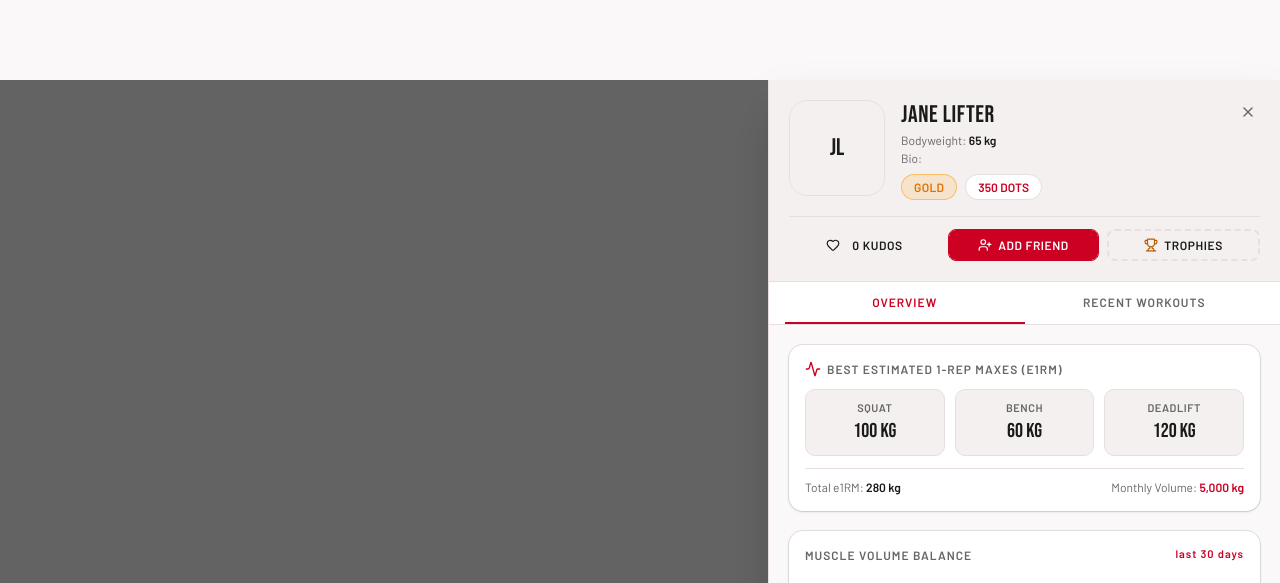
Scenario: ProfInspDrawer › sends req, shows sent
The width and height of the screenshot is (1280, 583).
Click the button "Add Friend".
click(1024, 245)  # box [948,229,1099,261]
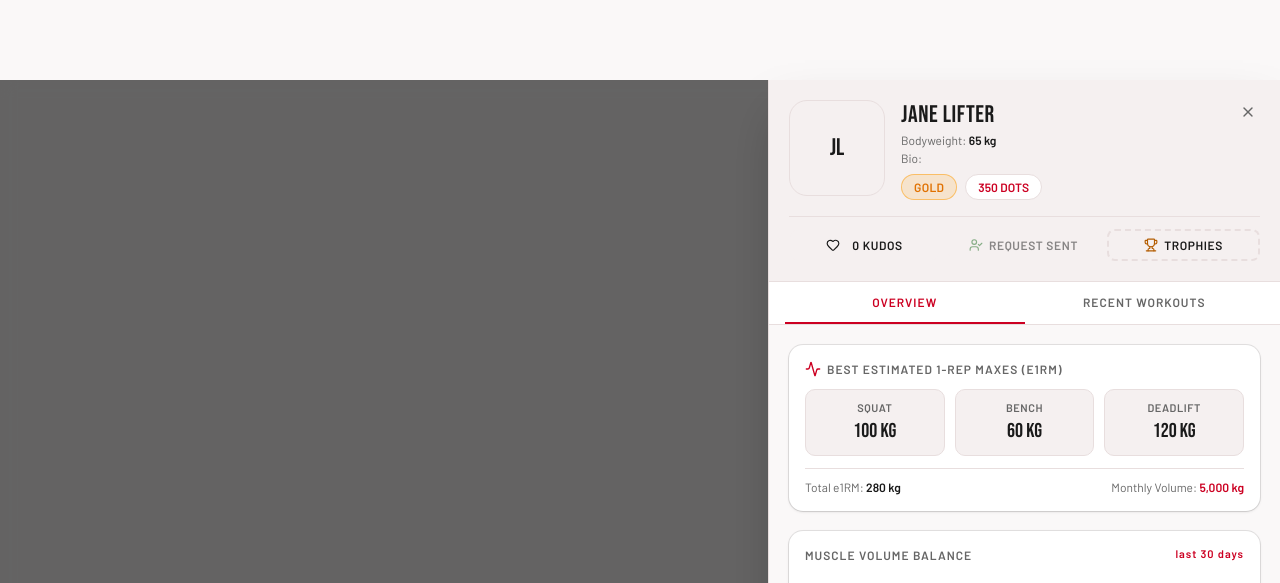
Expected: the text "Request Sent" is shown, [989,237,1078,253]
